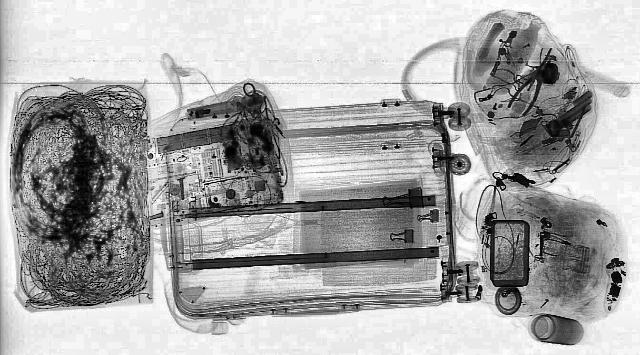Pliers: (503, 56, 559, 116)
